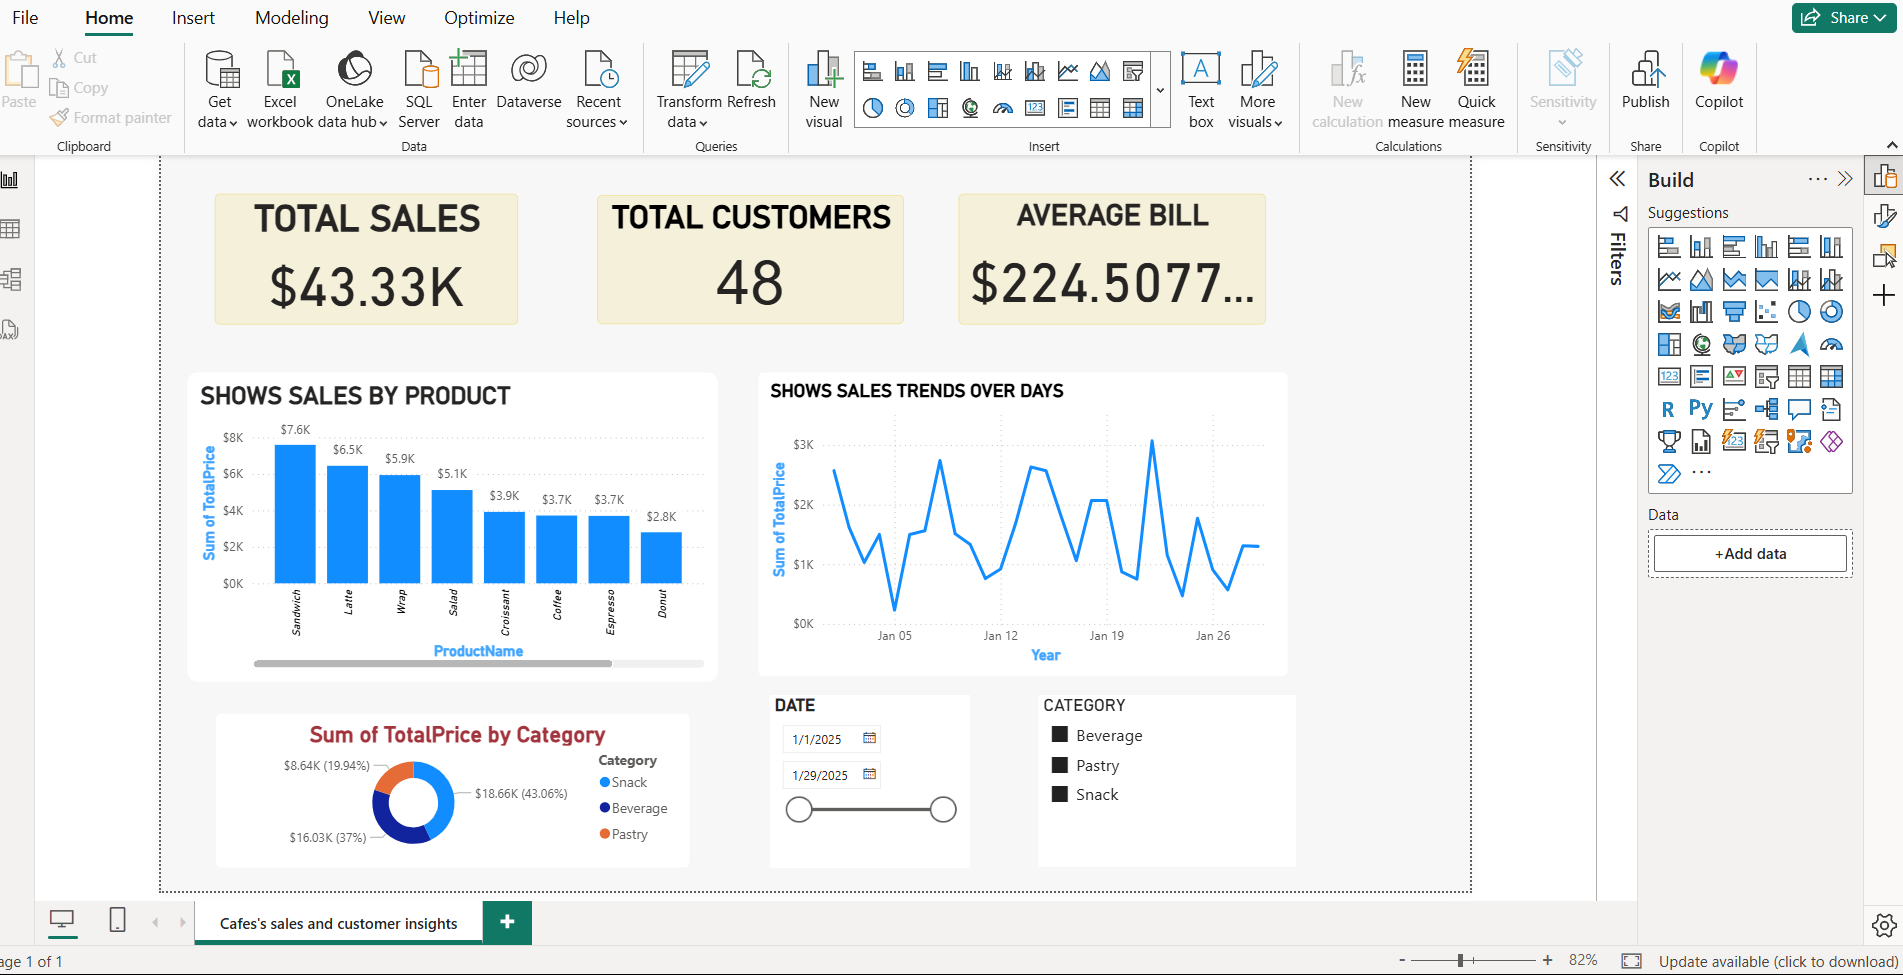

Layout of this report page (visuals, bound fields, positions):
{"tool":"powerbi","page":{"name":"Cafes's sales and customer insights","canvas":[1280,720],"ordinal":0},"visuals":[{"type":"card","title":"TOTAL SALES","fields":{"Values":["Sum(cafe_sales_data.TotalPrice)"]},"box":[52.2,37.8,296.7,127.8],"z":0},{"type":"card","title":"TOTAL CUSTOMERS","fields":{"Values":["Count(cafe_sales_data.CustomerID)"]},"box":[426.7,38.9,300,126.7],"z":1000},{"type":"card","title":"AVERAGE BILL","fields":{"Values":["Avg(cafe_sales_data.TotalPrice)"]},"box":[780,37.8,301.1,127.8],"z":2000},{"type":"lineClusteredColumnComboChart","title":"SHOWS SALES BY PRODUCT","fields":{"Category":["cafe_sales_data.ProductName"],"Y":["Sum(cafe_sales_data.TotalPrice)"]},"box":[25.6,212.2,518.9,302.2],"z":3000},{"type":"lineChart","title":"SHOWS SALES TRENDS OVER DAYS","fields":{"Category":["cafe_sales_data.Date.Variation.Date Hierarchy.Year","cafe_sales_data.Date.Variation.Date Hierarchy.Quarter","cafe_sales_data.Date.Variation.Date Hierarchy.Month","cafe_sales_data.Date.Variation.Date Hierarchy.Day"],"Y":["Sum(cafe_sales_data.TotalPrice)"]},"box":[584.4,212.2,517.8,296.7],"z":4000},{"type":"donutChart","fields":{"Category":["cafe_sales_data.Category"],"Y":["Sum(cafe_sales_data.TotalPrice)"]},"box":[53.3,546.7,463.3,150],"z":5000},{"type":"slicer","title":"DATE","fields":{"Values":["cafe_sales_data.Date"]},"box":[595.6,527.8,195.6,168.9],"z":6000},{"type":"slicer","title":"CATEGORY","fields":{"Values":["cafe_sales_data.Category"]},"box":[858.9,527.8,252.2,167.8],"z":7000}]}

Visuals, with their boxes on the page's 1280x720 design canvas (x1, y1, x2, y2). These are canvas units, not pixel positions in the 1903x975 screenshot, which may show the page scaled, cropped or inside an application window:
"TOTAL SALES" card: 52 38 349 166
"TOTAL CUSTOMERS" card: 427 39 727 166
"AVERAGE BILL" card: 780 38 1081 166
"SHOWS SALES BY PRODUCT" lineClusteredColumnComboChart: 26 212 544 514
"SHOWS SALES TRENDS OVER DAYS" lineChart: 584 212 1102 509
donutChart - cafe_sales_data.Category x Sum(cafe_sales_data.TotalPrice): 53 547 517 697
"DATE" slicer: 596 528 791 697
"CATEGORY" slicer: 859 528 1111 696
